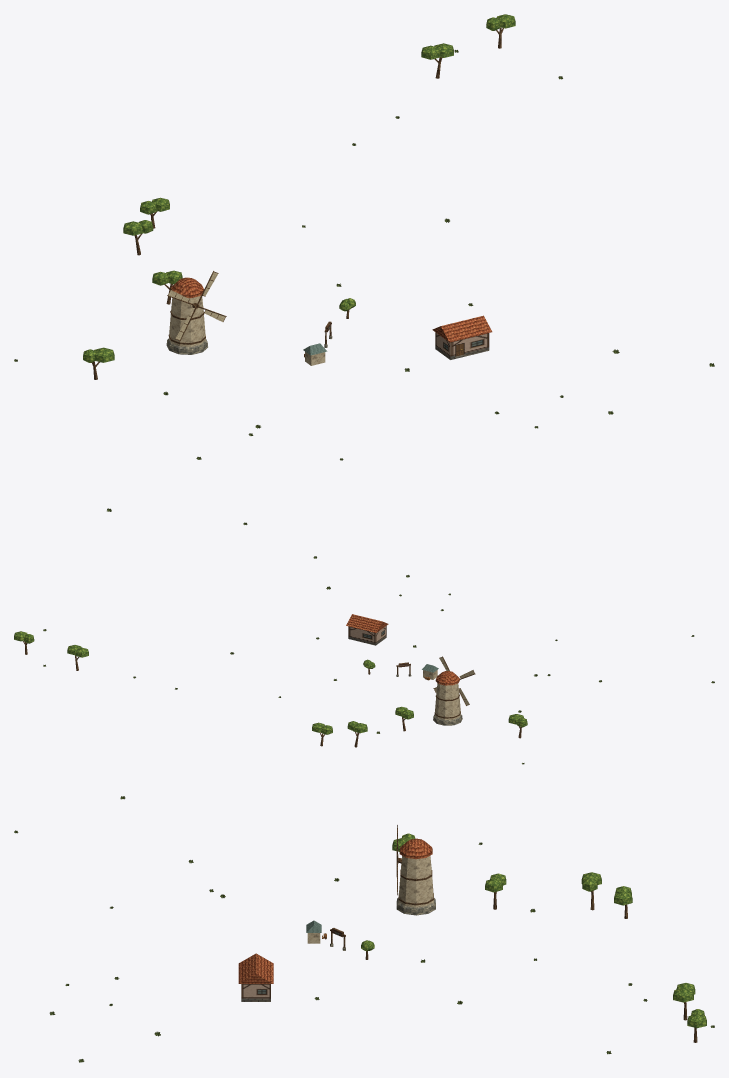
File: FieldCell_2_3.fbx
3 renders of one model, top to bottom at view 1: azimuth 30°, elevation 25°; view 2: azimuth 150°, elevation 25°; view 3: azimuth 270°, elevation 25°, orthographic. The views are drawn at different scales.
Visible parts, largest first — view 1: FieldCell_2_3; view 2: FieldCell_2_3; view 3: FieldCell_2_3.
Boxes of the visible parts, <box> form: FieldCell_2_3: <box>83,14,515,379</box>; FieldCell_2_3: <box>14,614,527,747</box>; FieldCell_2_3: <box>238,825,706,1042</box>.
Bounding box in the file's own units: 16655 × 2742 × 14542.
